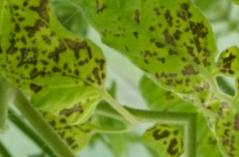Tomato leaf bacterial spot: (71, 0, 239, 131), (3, 13, 134, 142)
